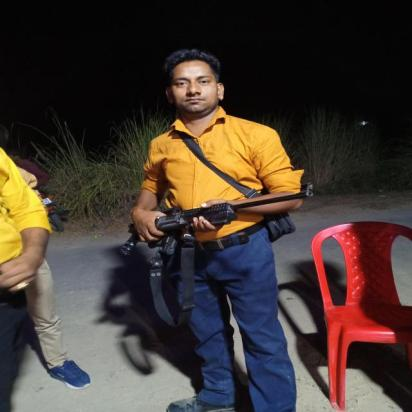Gun: (116, 182, 316, 258)
